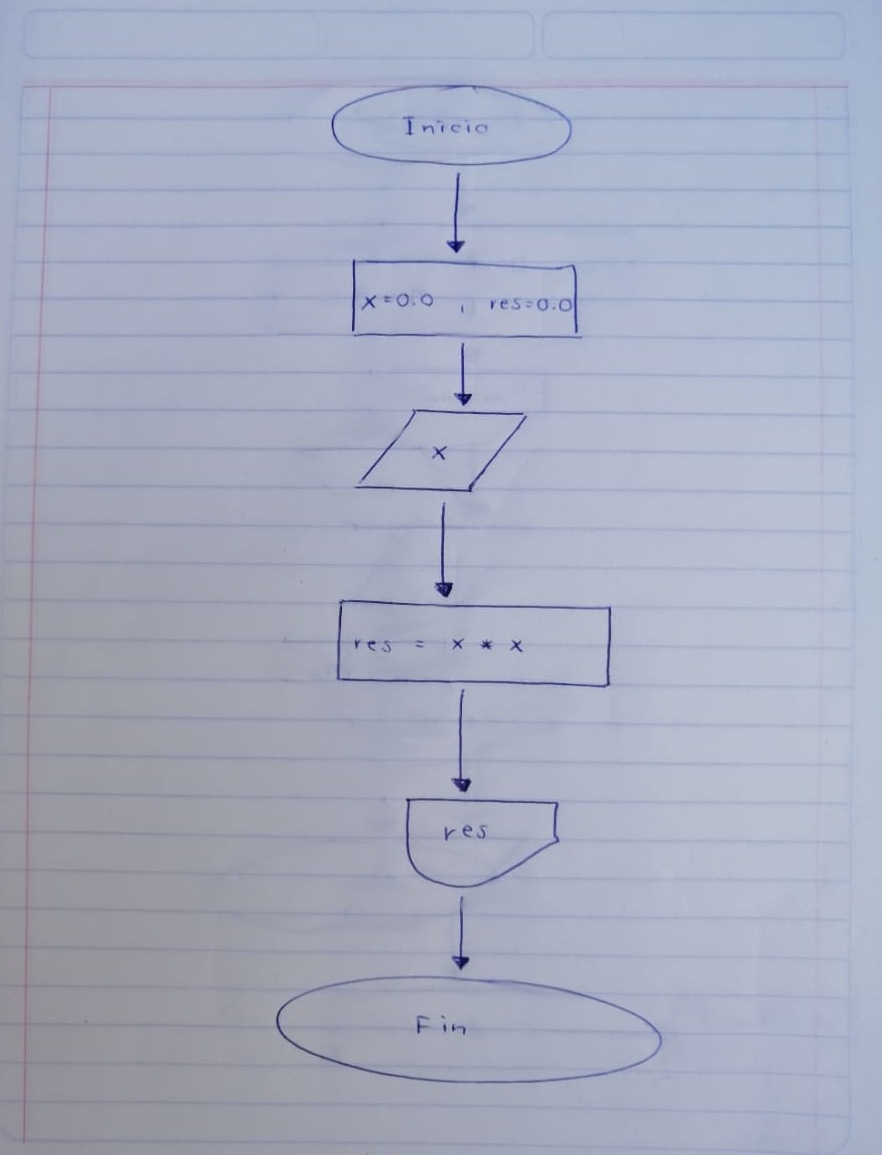arrow_line_down: (447, 682, 477, 798), (431, 497, 461, 604), (445, 169, 471, 259), (448, 891, 474, 975), (452, 337, 475, 410)
print: (401, 792, 566, 892)
process: (328, 594, 618, 691), (348, 254, 586, 342)
scan: (352, 404, 533, 498)
start_end: (272, 973, 668, 1092), (326, 77, 580, 171)
